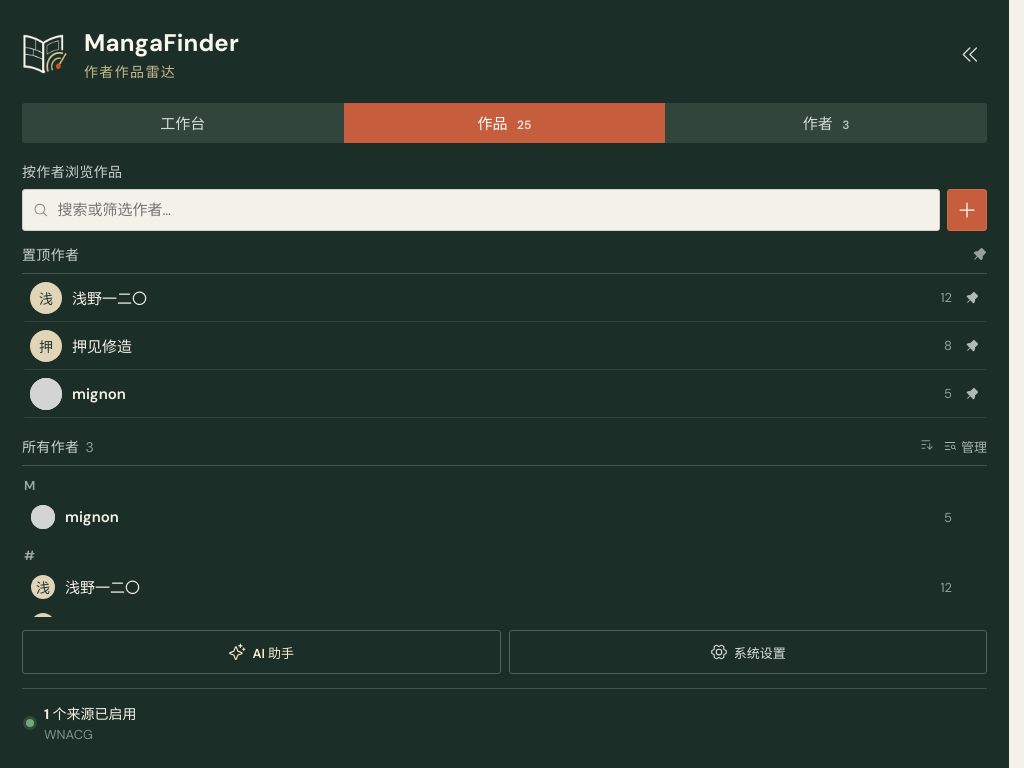
Test: AuthorSidebar › filters the author list and selects an author
Later steps or results of the test are not shown.
Type "mignon" into the field named "搜索作者" at (492, 210), box [56,199,929,221]
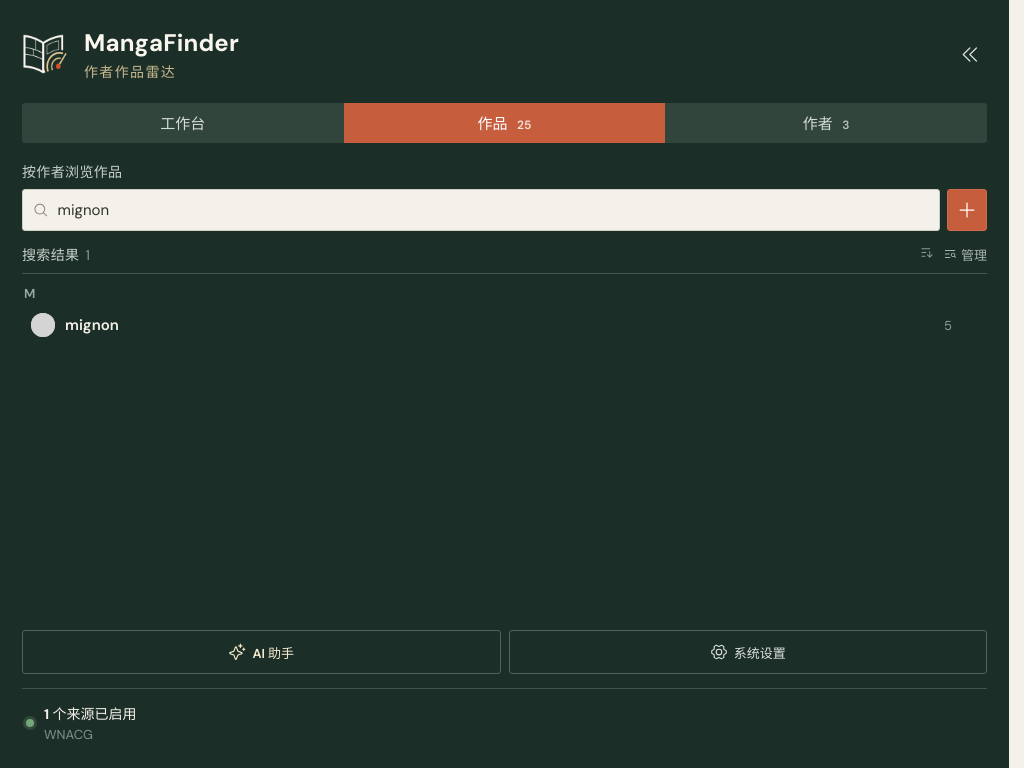
Expected: the text "mignon" is shown, [65,315,119,335]
Result: the heading "搜索结果" is shown at [22,244,79,264]
Result: the button "浅野一二〇" is gone
